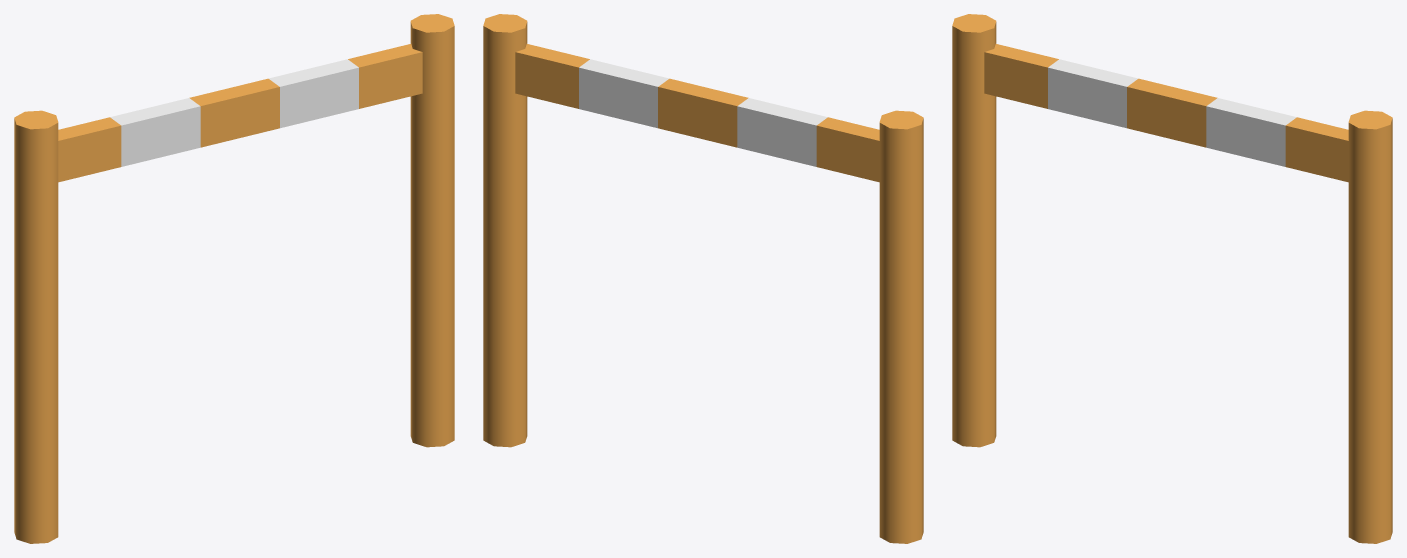
The model's file is hurdle.glb.
3 renders of one model, left to right at view 1: azimuth 30°, elevation 25°; view 2: azimuth 150°, elevation 25°; view 3: azimuth 330°, elevation 25°, orthographic.
Size of the model in its own units: 1.1 by 1 by 0.1.
